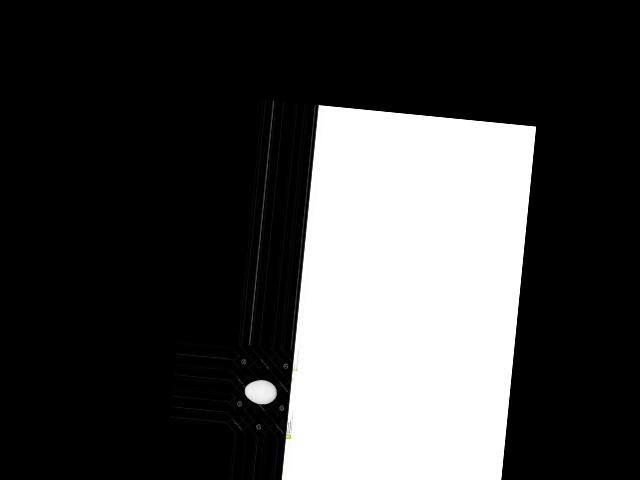egg: (243, 377, 278, 405)
